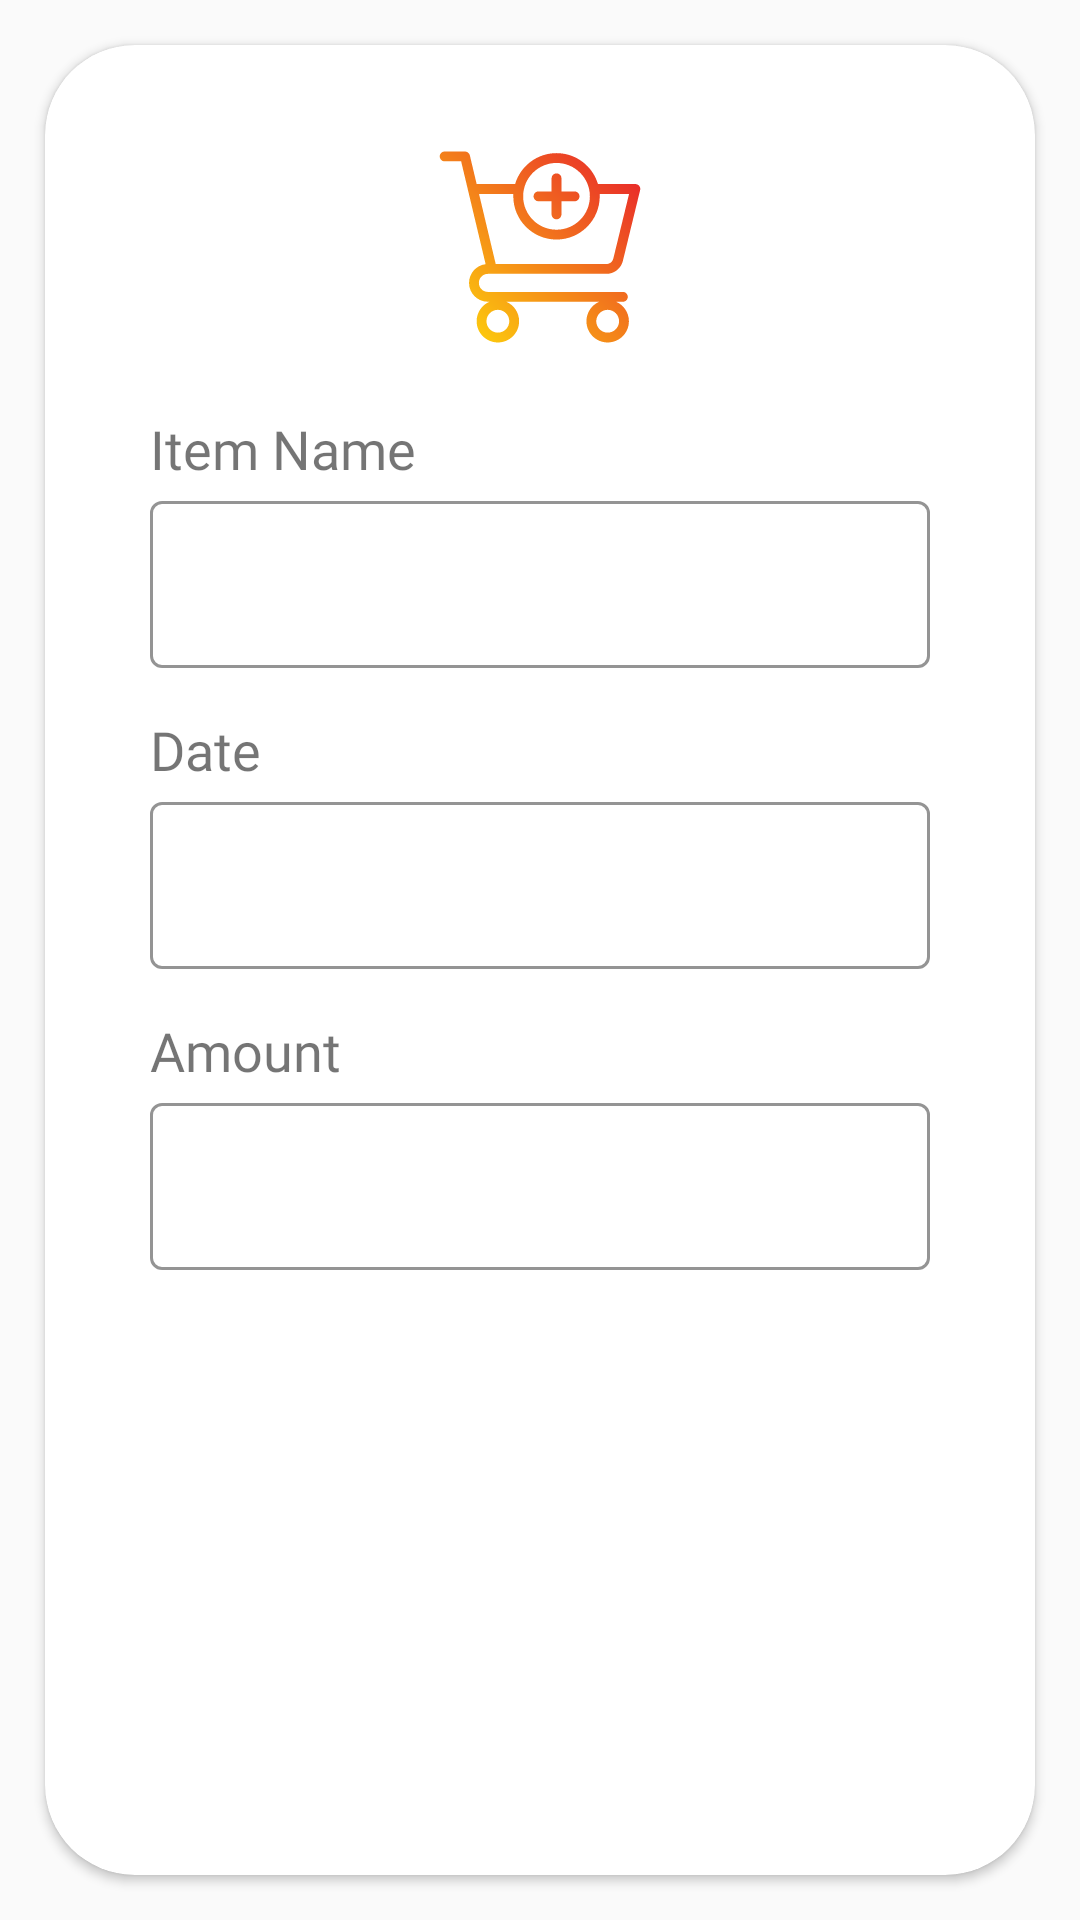

Locate icon controls on the screen. Image size 1080w x 1920h, boxes as (x1, y1, x2, y2).
add item: (439, 151, 641, 343)
